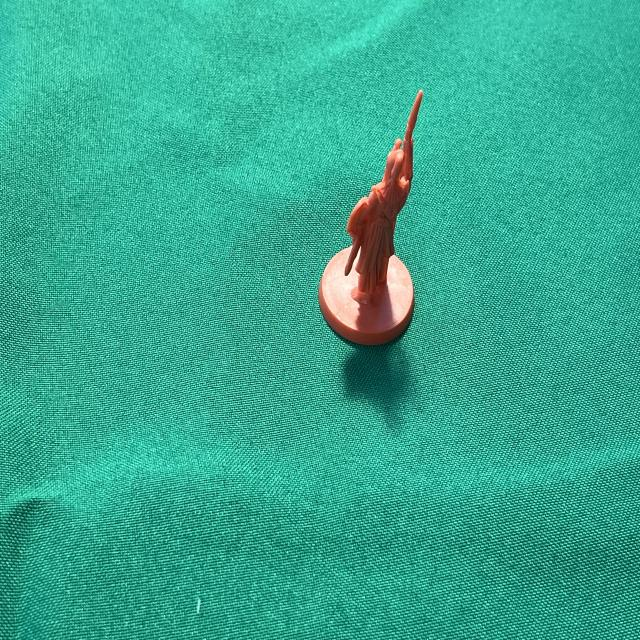amon_follower: (319, 90, 422, 345)
